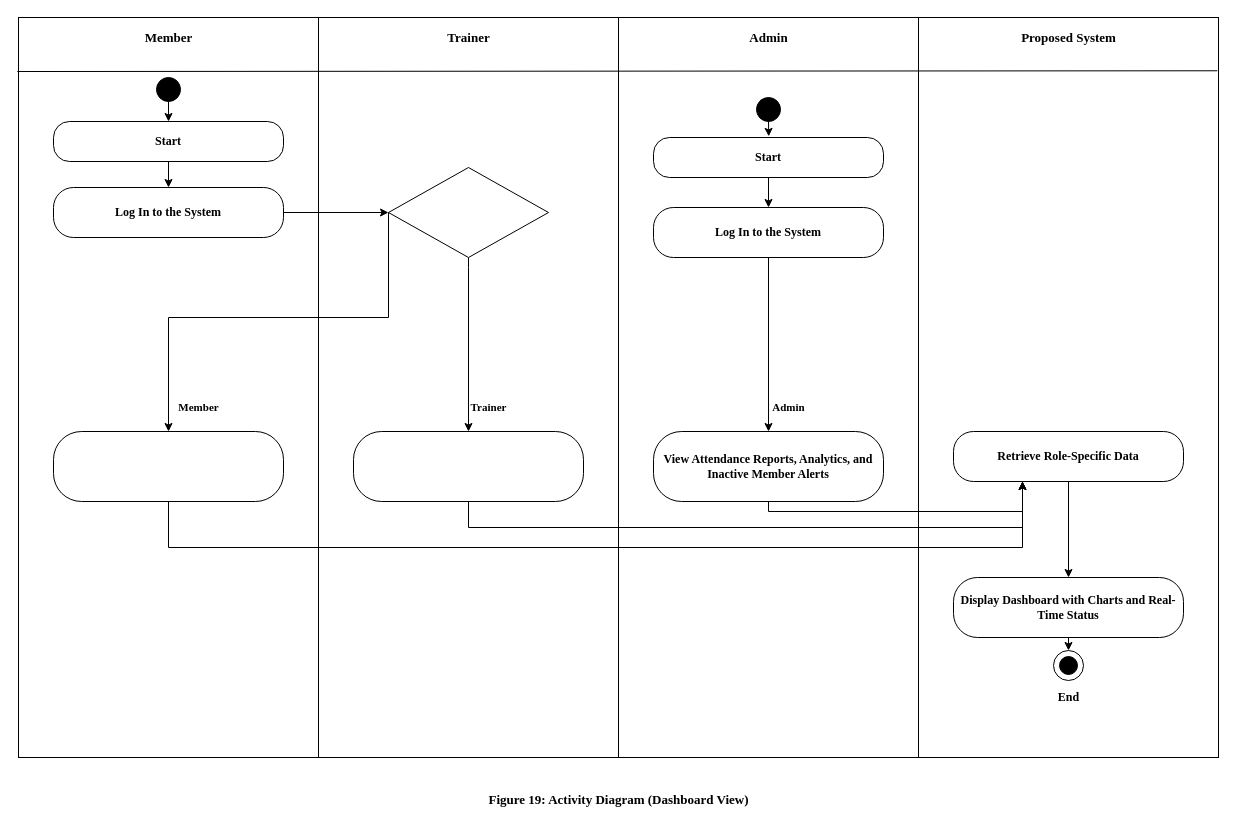
The diagram is 1237 pixels wide and 832 high, and some of its shapes have lost their labels. The shapes that lost their labels are listed below. From the top down, each one's centre as x and y in pixels, then its label:
(468,212): What Is the User Role?
(168,466): View Workout History, BMI Trend, and Predictions
(468,466): View Assigned Members, Retention Risk Alerts, and Plan Status
